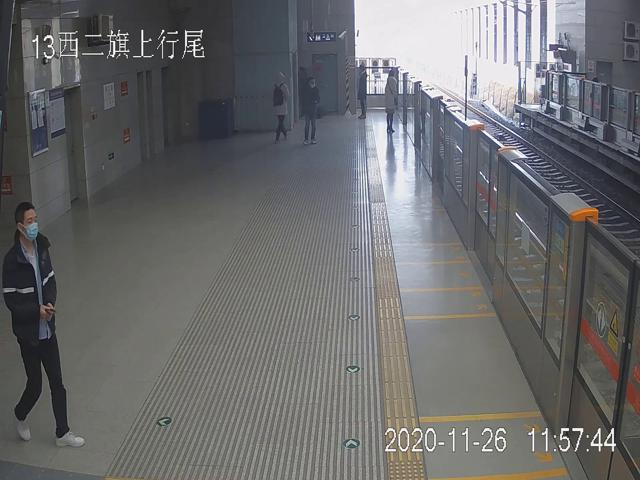person: (2, 201, 87, 448), (272, 70, 289, 142), (303, 76, 318, 145), (384, 68, 399, 133), (357, 62, 369, 120)
